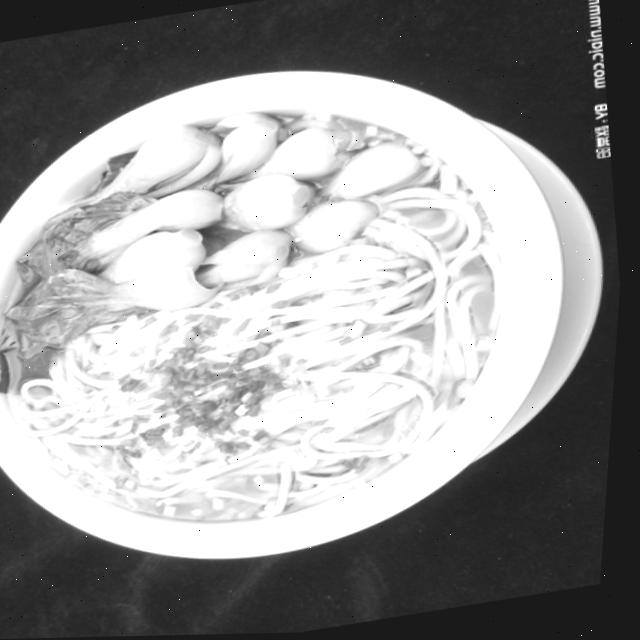面条主食: (0, 32, 634, 610)
